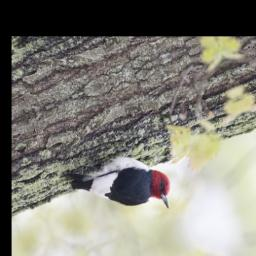Woodpecker: (66, 138, 178, 242)
